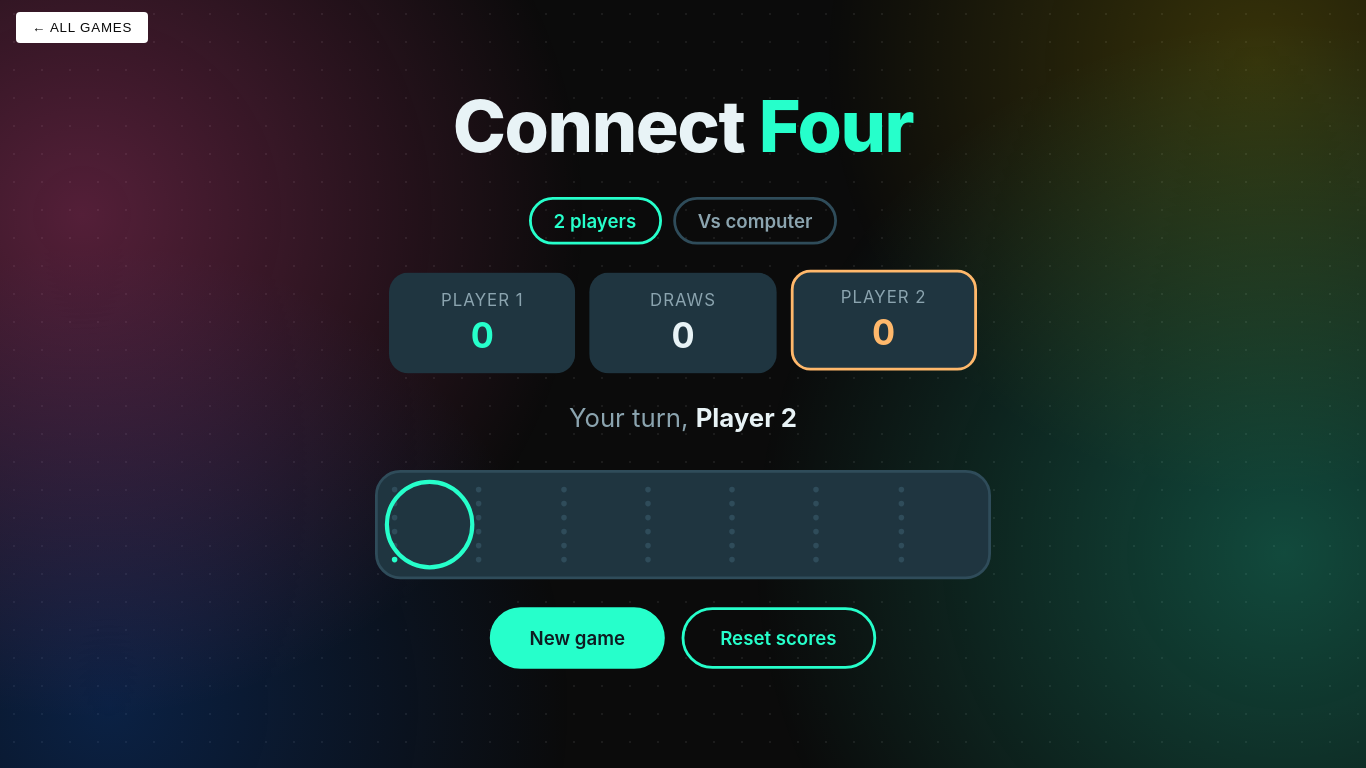
Scenario: connect four › four in a column wins
Earlier steps of the test are not shown.
Click the button named "Drop a disc in column 2" at x=514, y=525, box 476,487 -> 552,563
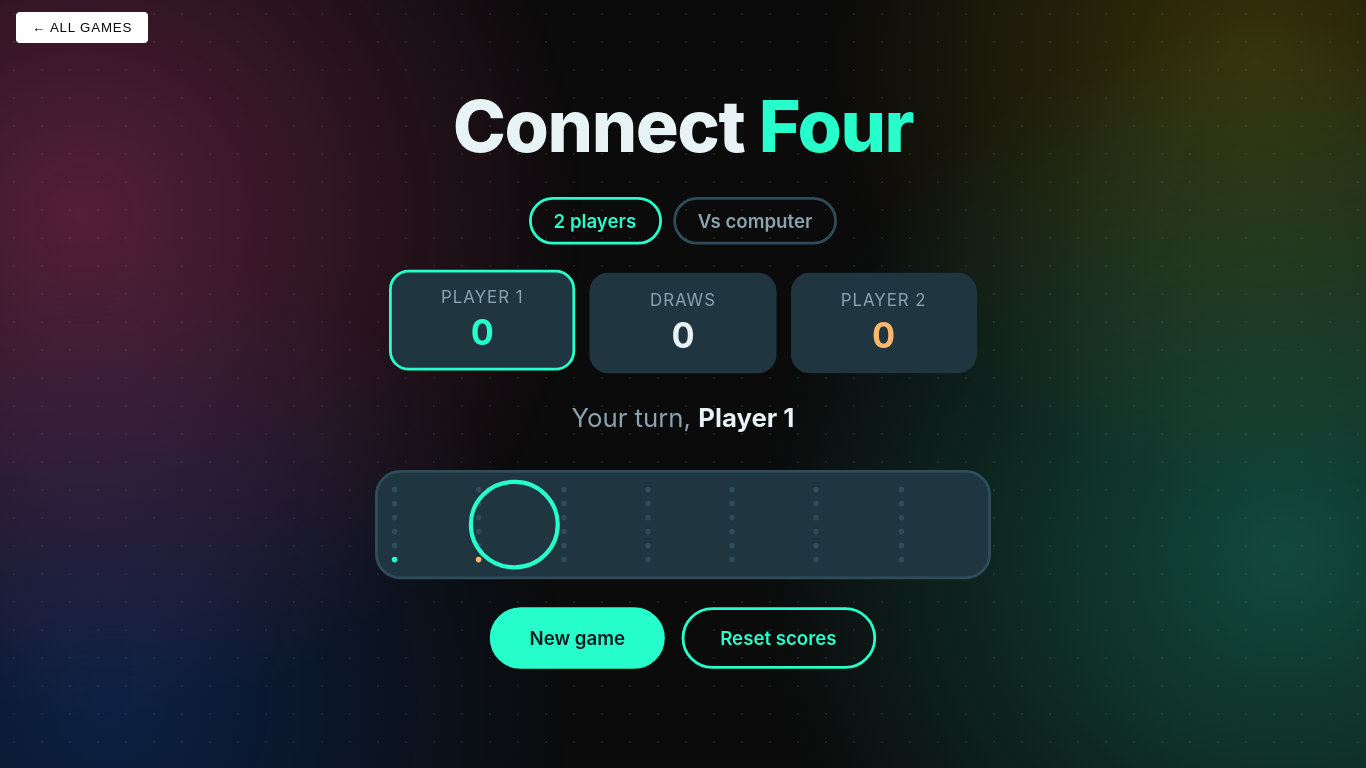
Click the button named "Drop a disc in column 1" at x=430, y=525, box 392,487 -> 468,563
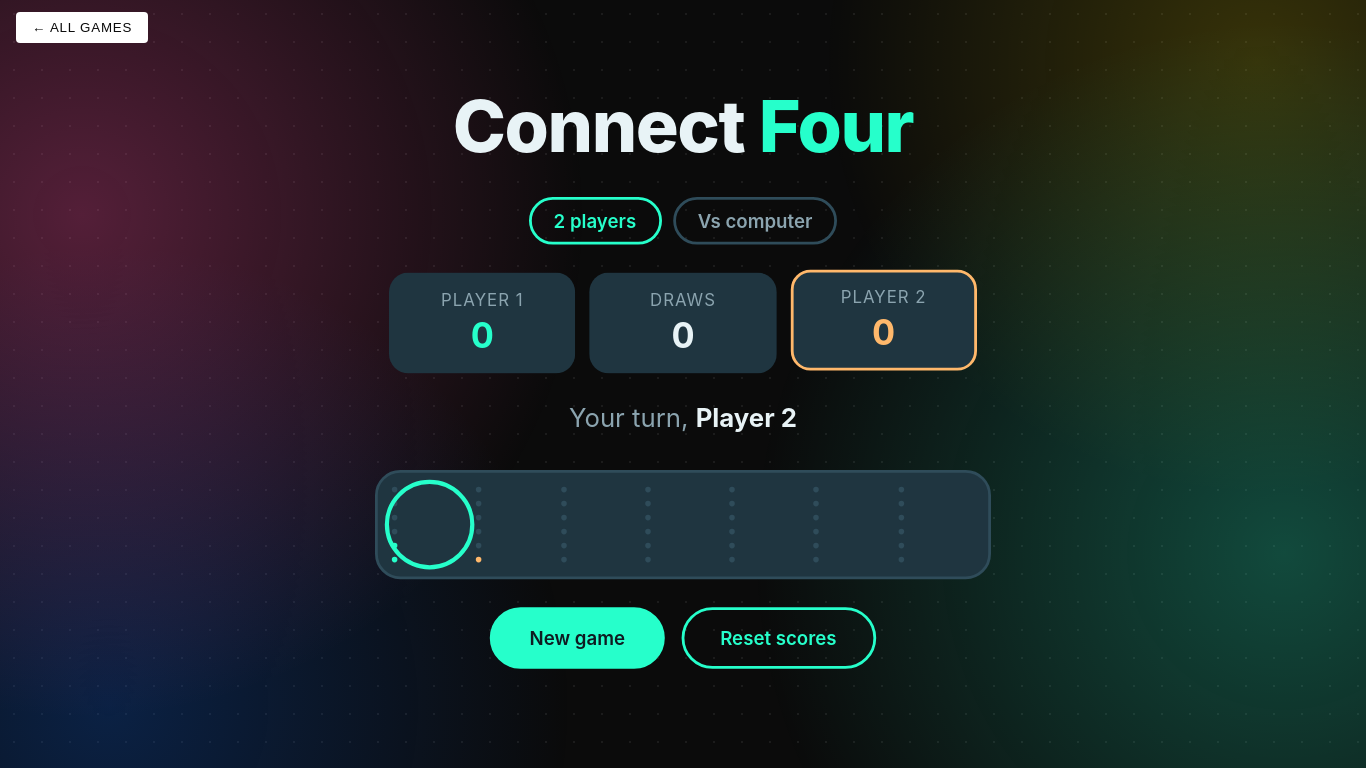
Click the button named "Drop a disc in column 2" at x=514, y=525, box 476,487 -> 552,563
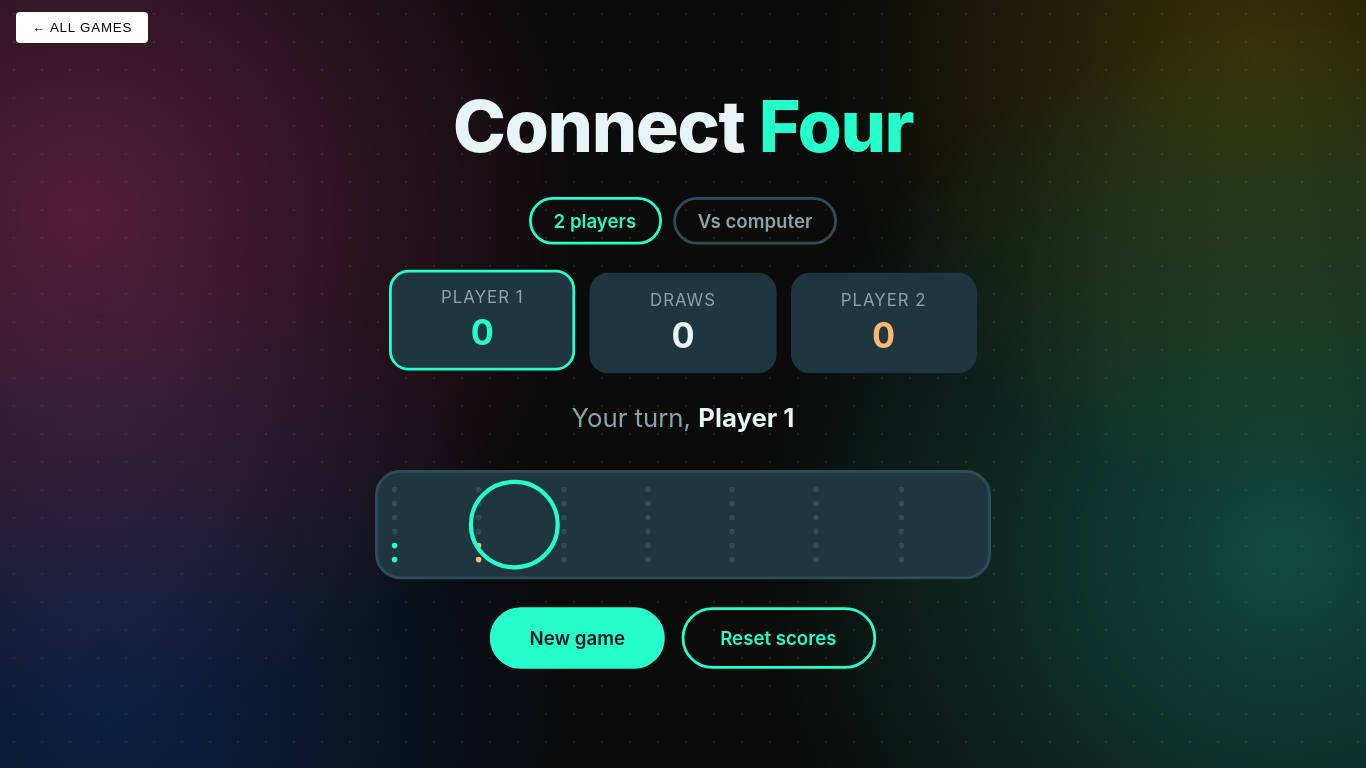
Click the button named "Drop a disc in column 1" at x=430, y=525, box 392,487 -> 468,563
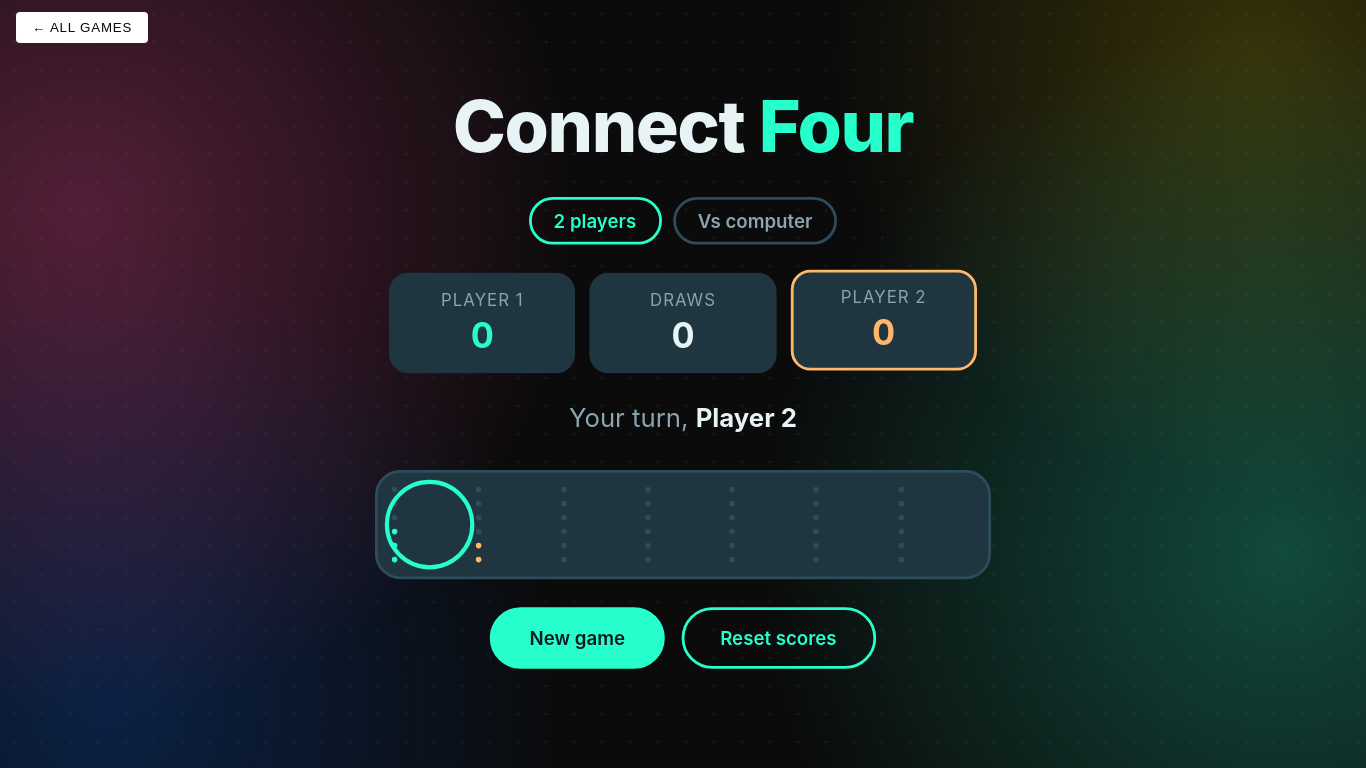
Click the button named "Drop a disc in column 2" at x=514, y=525, box 476,487 -> 552,563
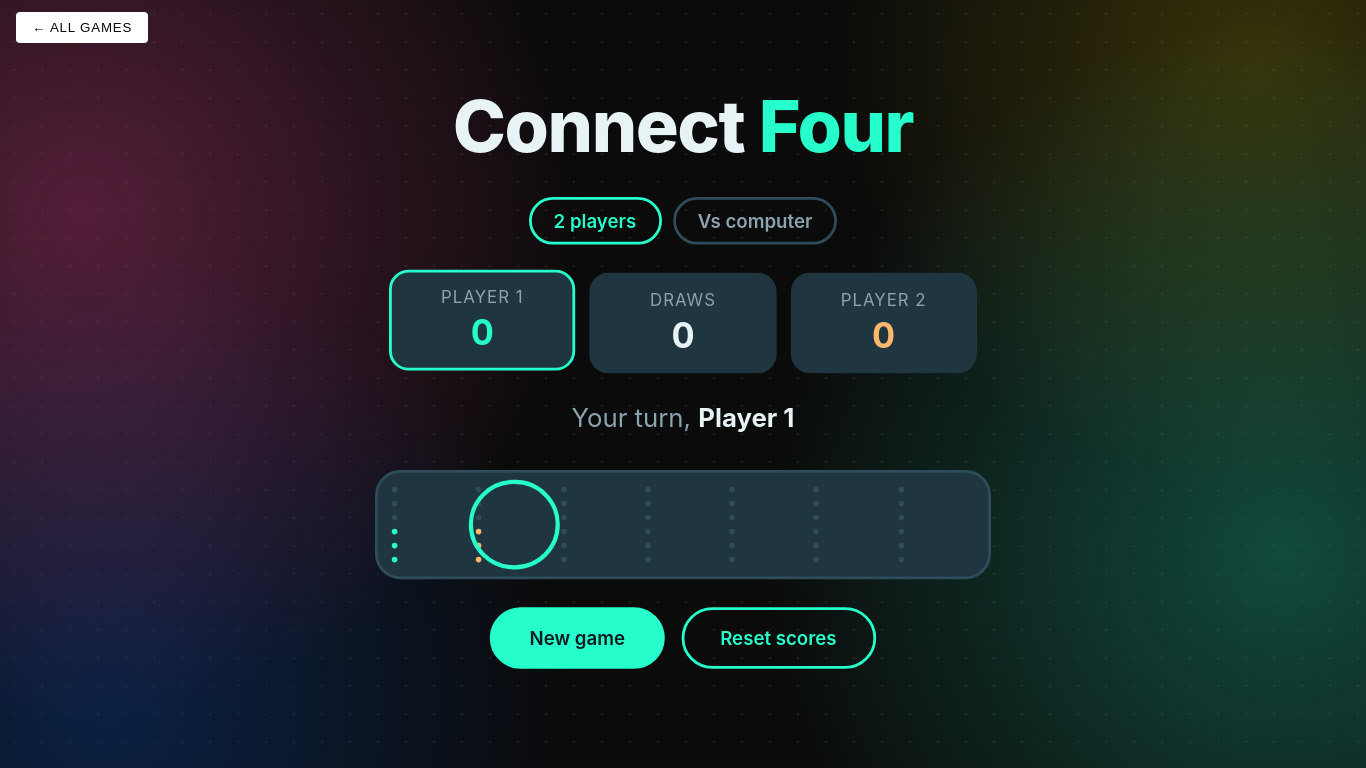
Click the button named "Drop a disc in column 1" at x=430, y=525, box 392,487 -> 468,563
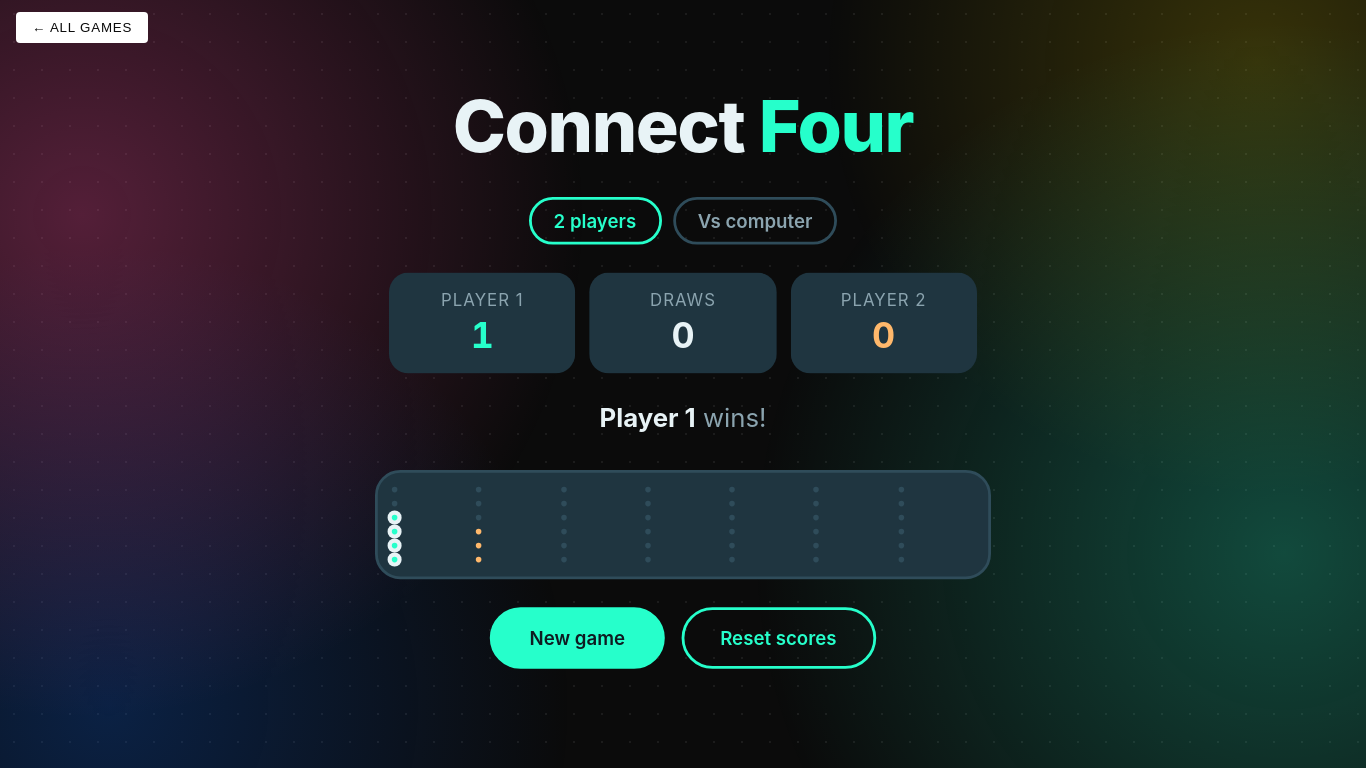
Check: the text "Player 1 wins!" is shown, box 600,401 -> 766,443
